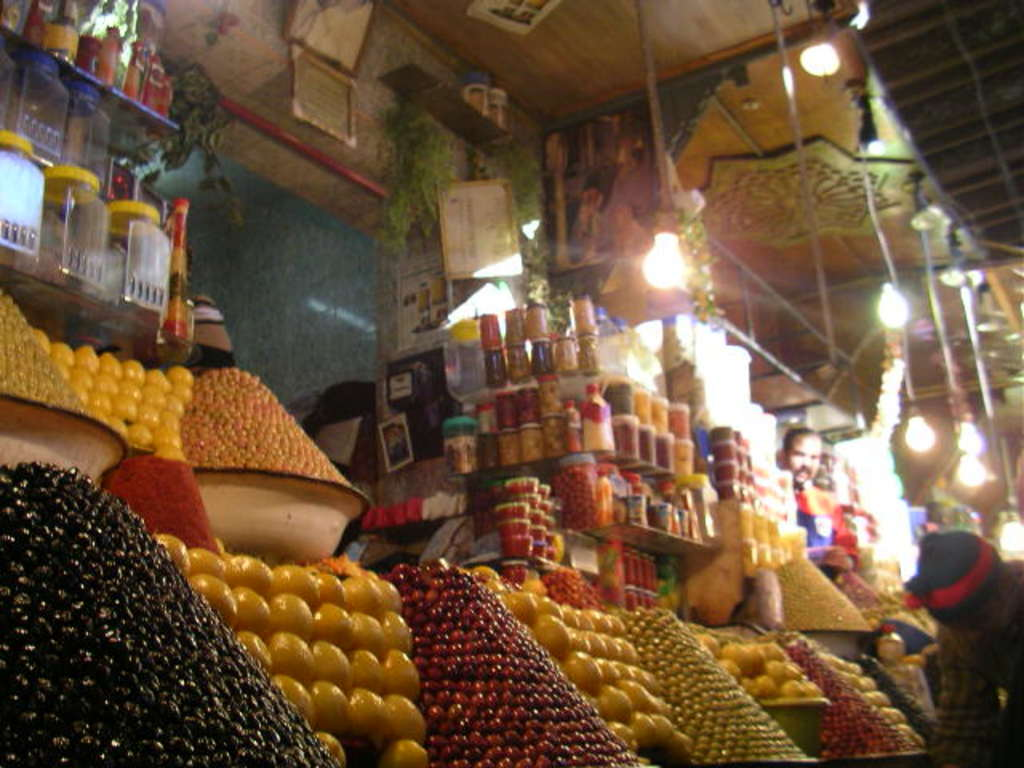Person: (900, 531, 1024, 768), (776, 427, 861, 579)
